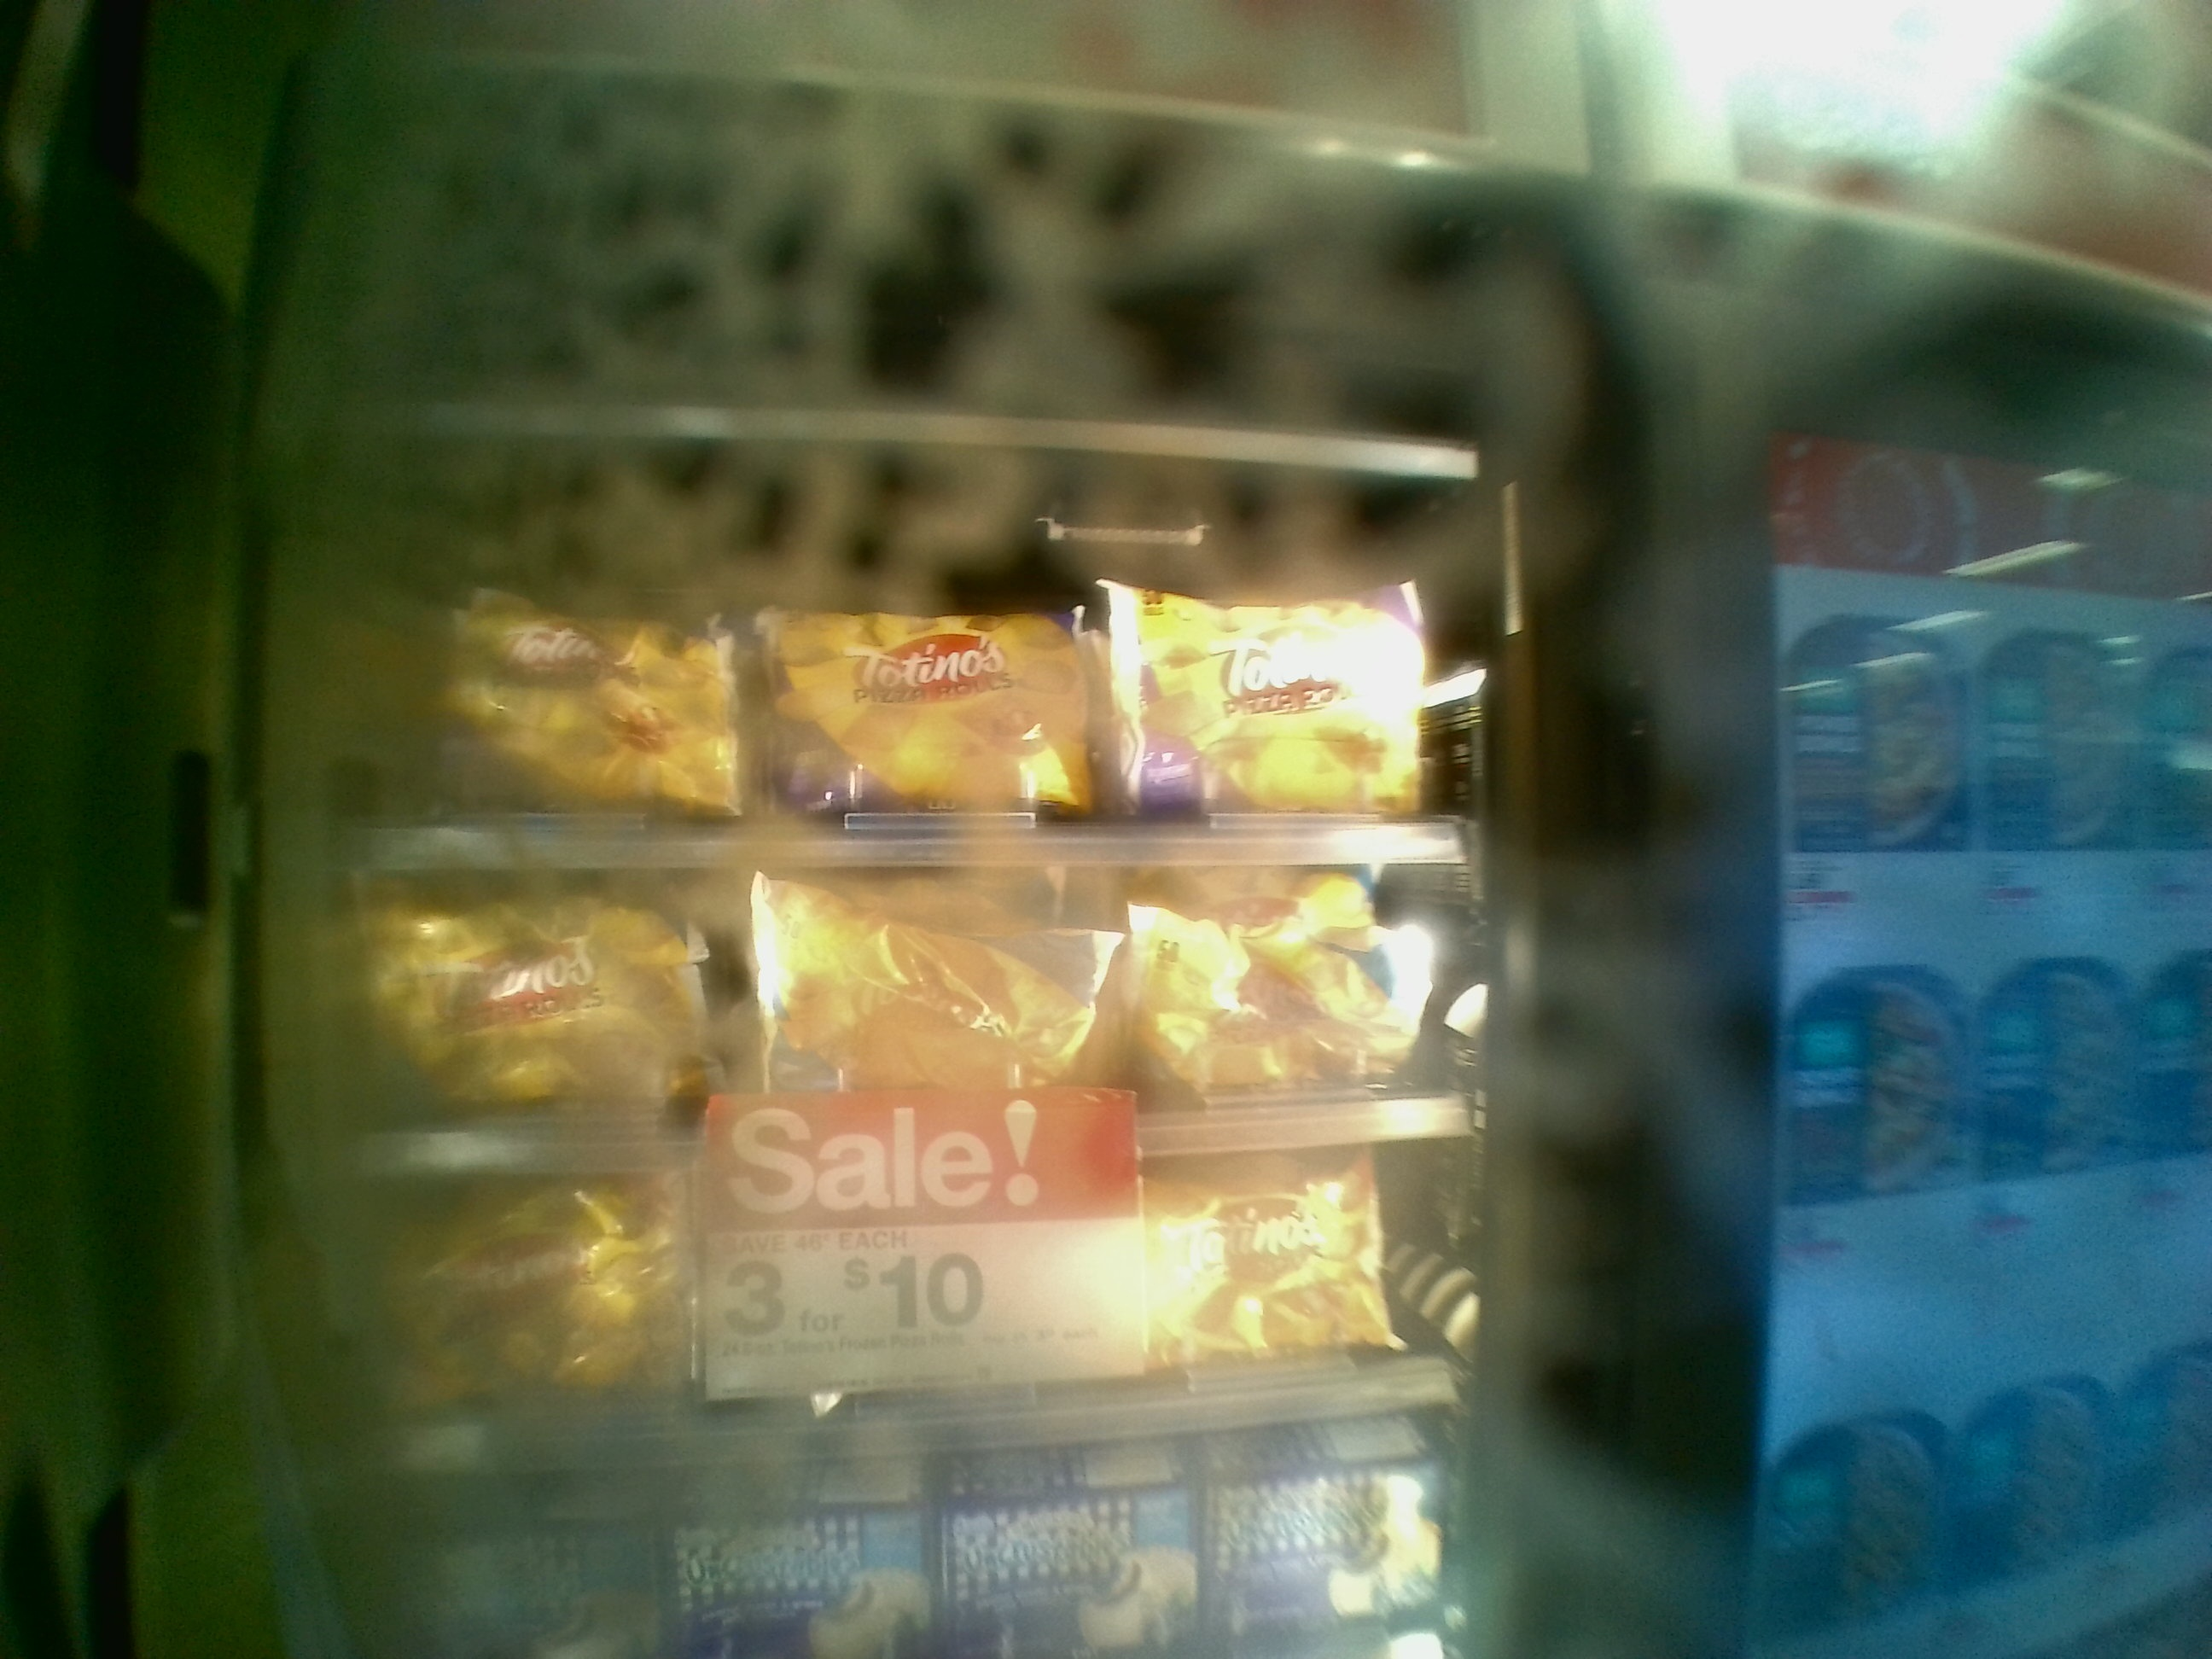shelf: (279, 415, 1486, 861), (265, 859, 1486, 1171), (284, 1185, 1465, 1469)
